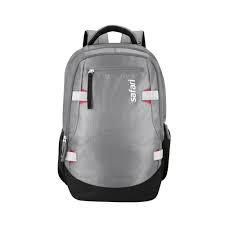backpack: (57, 24, 171, 202)
